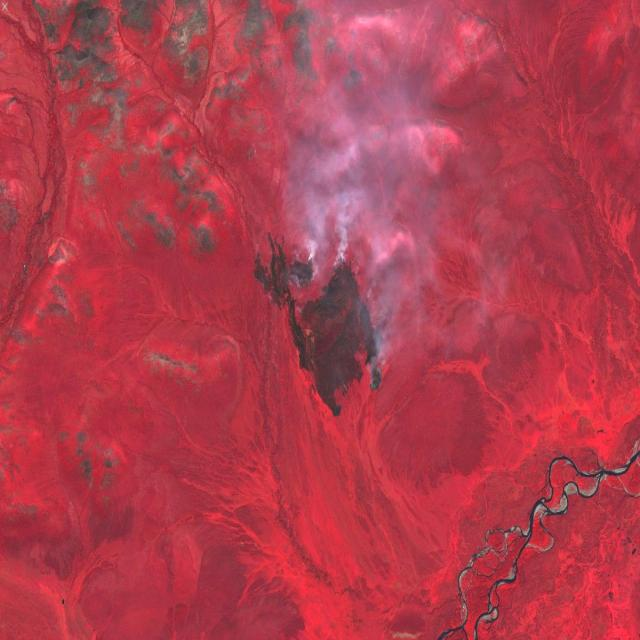fire: (286, 245, 387, 423)
